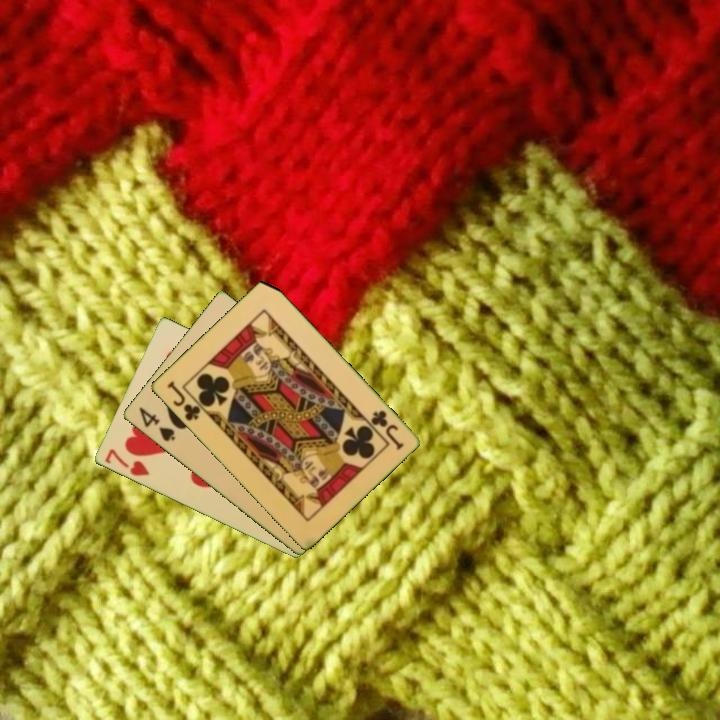4s: (135, 404, 178, 444)
7h: (101, 445, 152, 479)
Jc: (163, 377, 203, 424), (367, 406, 406, 453)
